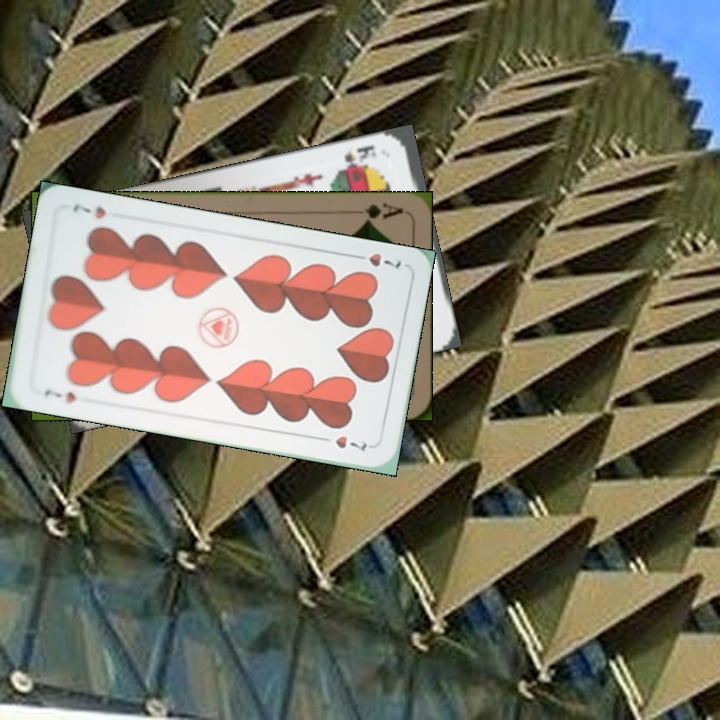GA: (346, 199, 405, 226)
H7: (348, 249, 404, 272), (40, 384, 79, 406)
SK: (335, 141, 379, 174)
